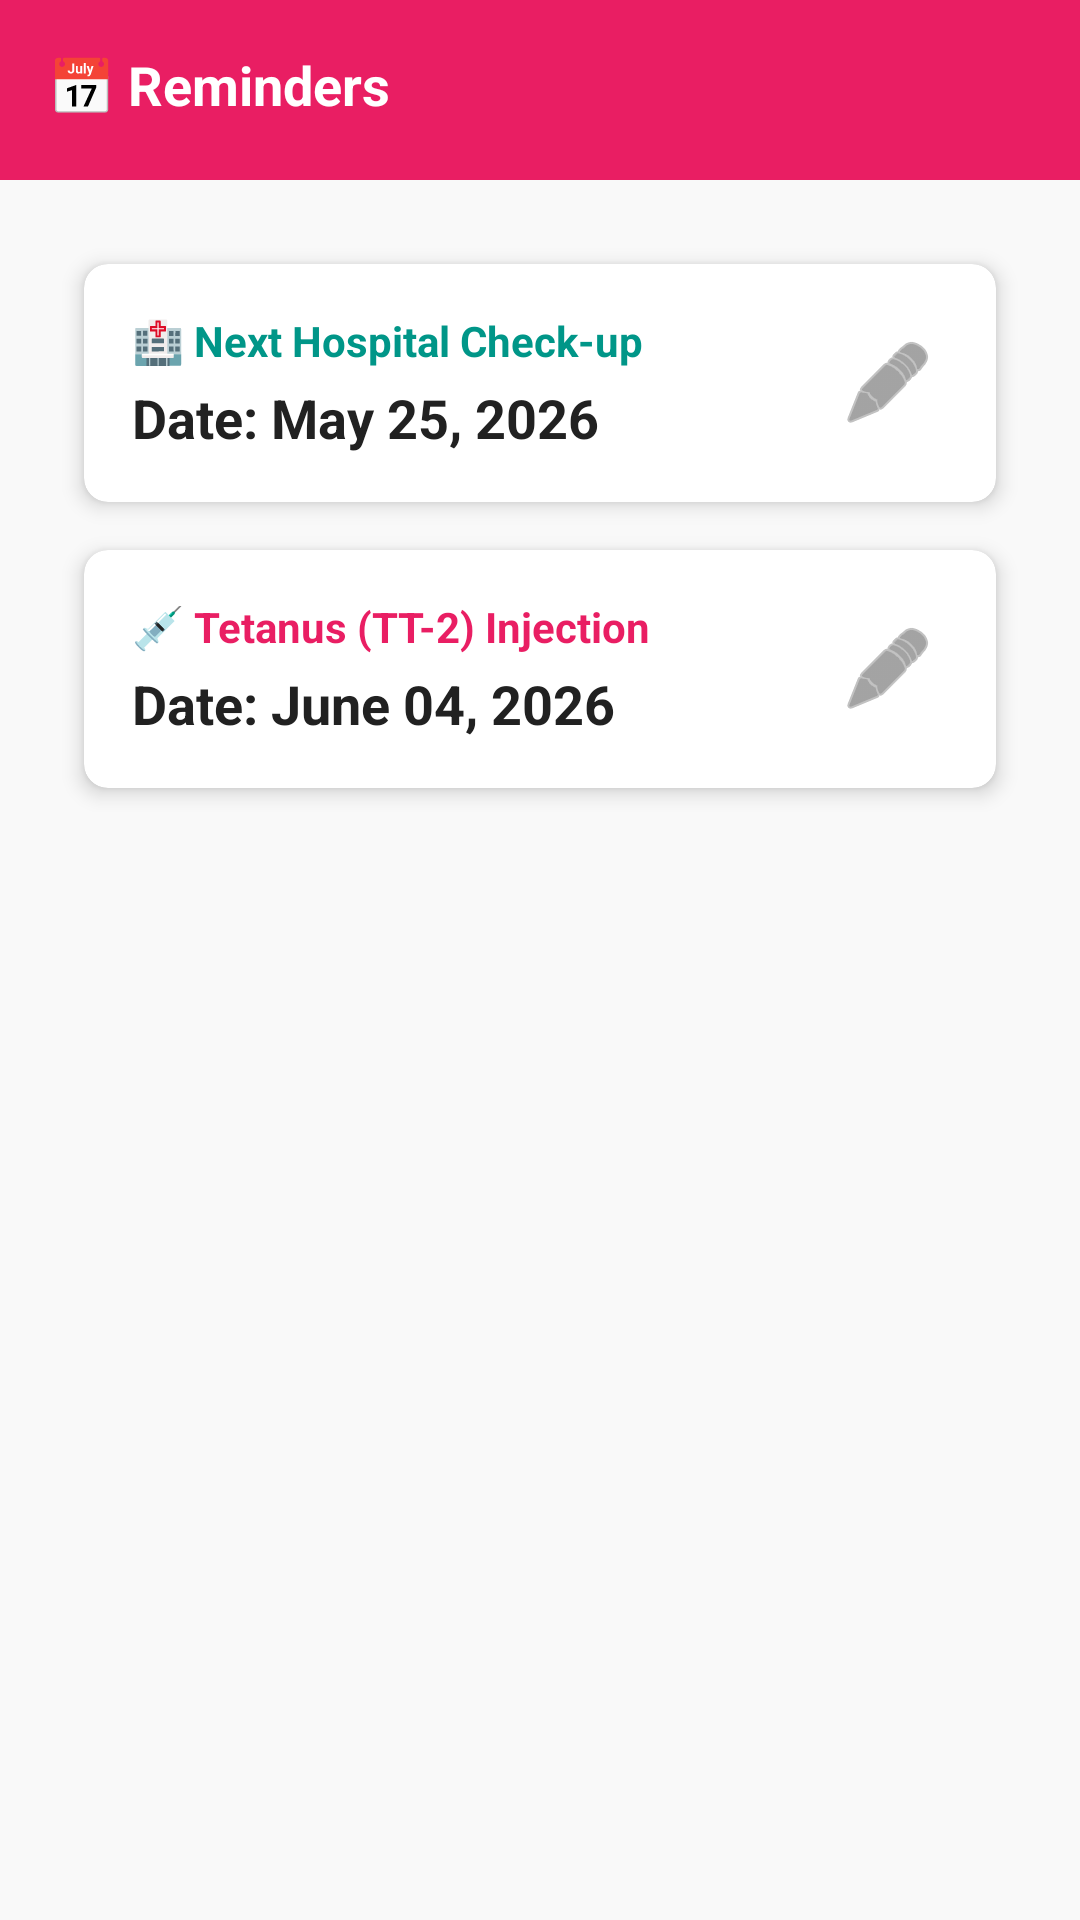

Screen size 1080w x 1920h. Icon name, then its center in pixels as [x,y]:
edit: [887,382], [887,668]
